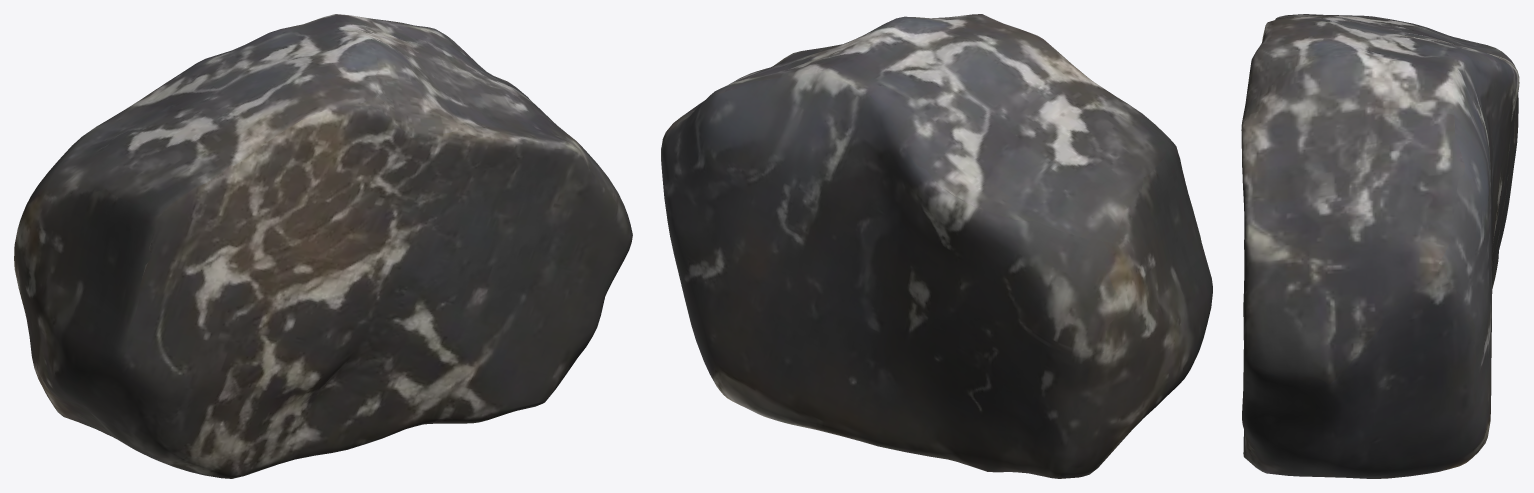
The picture shows the model from 3 angles, left to right: view 1: azimuth 30°, elevation 25°; view 2: azimuth 150°, elevation 25°; view 3: azimuth 270°, elevation 25°; orthographic projection.
Bounding box in the file's own units: 2 × 1.36 × 0.9312.
1 material, 1 textured.
